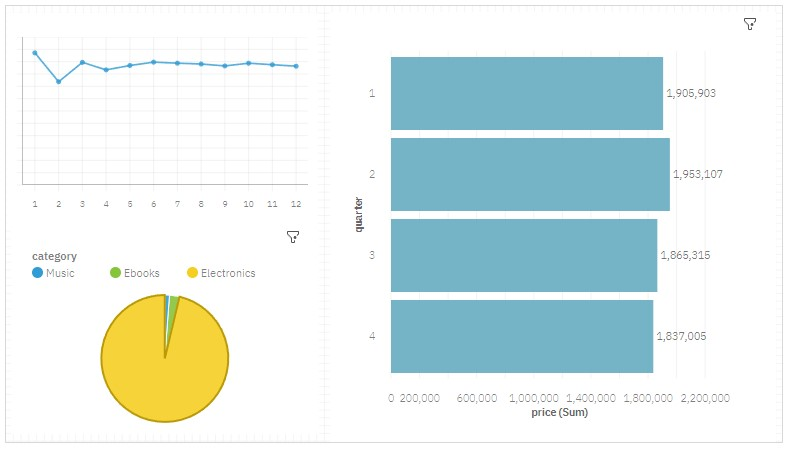

What the dashboard file says about the page in this screenshot:
{"tool":"tableau","page":{"name":"Dashboard 1","canvas":[1000,800],"ordinal":0},"visuals":[{"type":"worksheet","title":"yearly_sales","mark":"Circle","box":[8,8,412,392]},{"type":"worksheet","title":"sales/timeframe","mark":"Automatic","rows":["category"],"box":[420,8,412,294]},{"type":"legend","title":"yearly_sales","param":"[federated.115cypk1err3xy1eveal30y9ltwj].[none:category:nk]","box":[832,8,160,86]},{"type":"parameter","param":"[Parameters].[Parameter 1]","box":[832,94,160,52]},{"type":"filter","title":"sale_trend_daily","param":"[federated.115cypk1err3xy1eveal30y9ltwj].[none:item:nk]","box":[832,146,160,203]},{"type":"worksheet","title":"electronics_sales_trend","mark":"Bar","rows":["price"],"cols":["category","day"],"box":[420,302,412,490]},{"type":"filter","title":"electronics_sales_trend","param":"[federated.115cypk1err3xy1eveal30y9ltwj].[none:category:nk]","box":[832,349,160,108]},{"type":"worksheet","title":"sale_trend_daily","mark":"Automatic","rows":["item","price"],"cols":["day"],"box":[8,400,412,392]}]}

Visuals, with their boxes on the page's 1000x800 design canvas (x1, y1, x2, y2). These are canvas units, not pixel positions in the 786x450 screenshot, which may show the page scaled, cropped or inside an application window:
"yearly_sales" worksheet (Circle marks): Rect(8, 8, 420, 400)
"sales/timeframe" worksheet: Rect(420, 8, 832, 302)
"yearly_sales" legend: Rect(832, 8, 992, 94)
parameter: Rect(832, 94, 992, 146)
"sale_trend_daily" filter: Rect(832, 146, 992, 349)
"electronics_sales_trend" worksheet (Bar marks): Rect(420, 302, 832, 792)
"electronics_sales_trend" filter: Rect(832, 349, 992, 457)
"sale_trend_daily" worksheet: Rect(8, 400, 420, 792)
